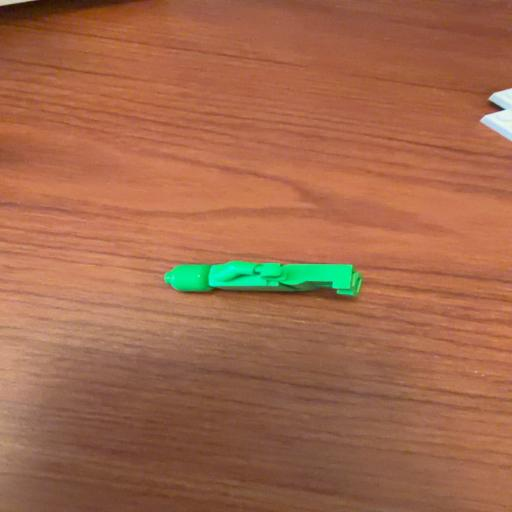UnoQ-minifig-detector: (165, 261, 362, 296)
